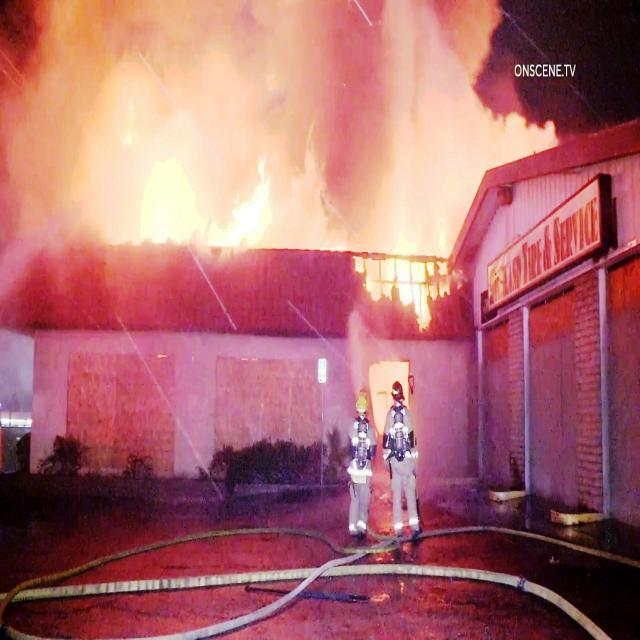Fire: (233, 162, 286, 244), (392, 220, 429, 320)
Smoke: (48, 7, 452, 122), (15, 10, 123, 228)
